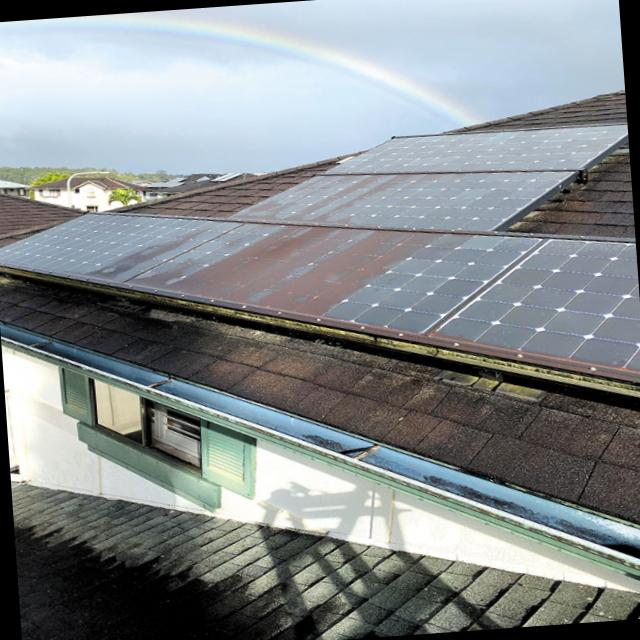faulty: (123, 221, 538, 336), (229, 172, 572, 232), (0, 215, 235, 284), (544, 236, 638, 280)
no faulty: (325, 125, 628, 172)
